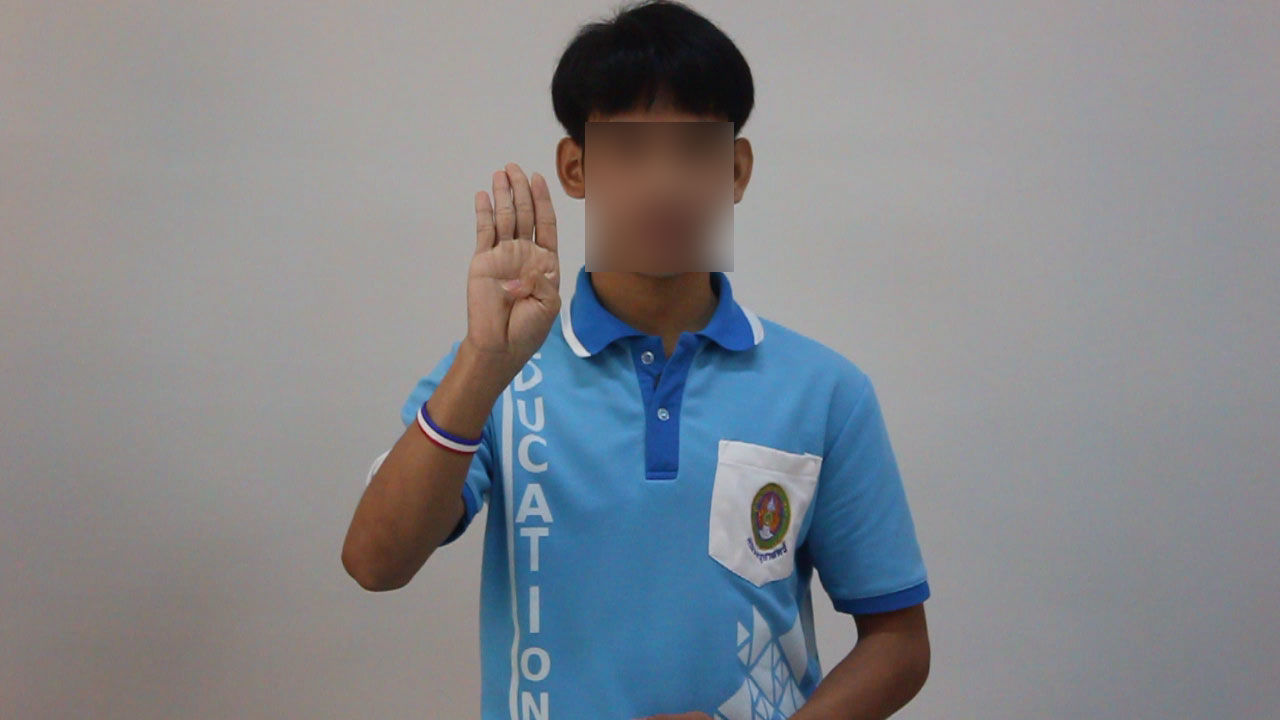bor: (453, 148, 576, 393)
